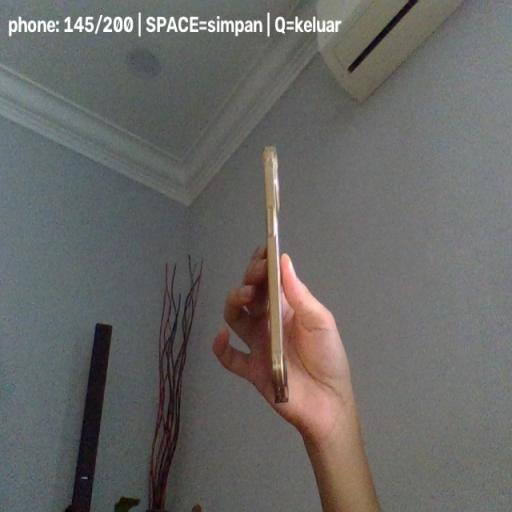Phone: (261, 147, 288, 402)
